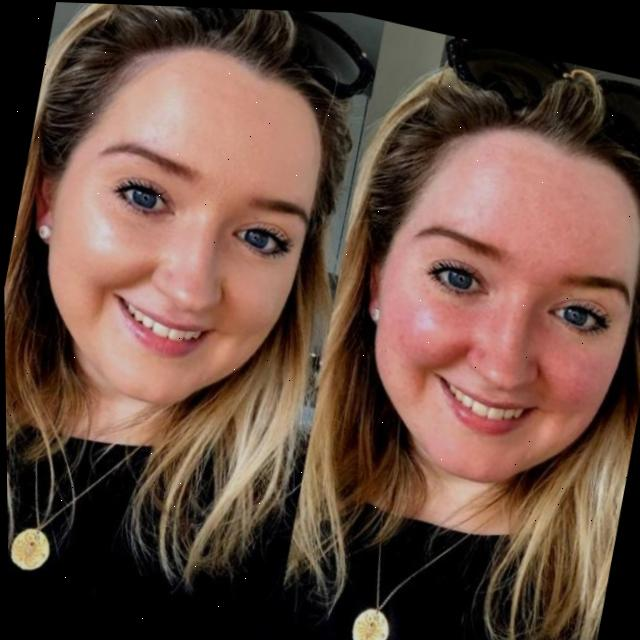Rosacea: (383, 293, 477, 385), (532, 333, 608, 427)
